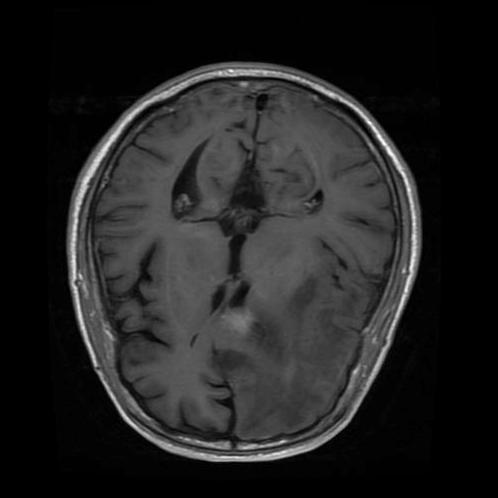Tumour-Glioma: (225, 295, 298, 366)
